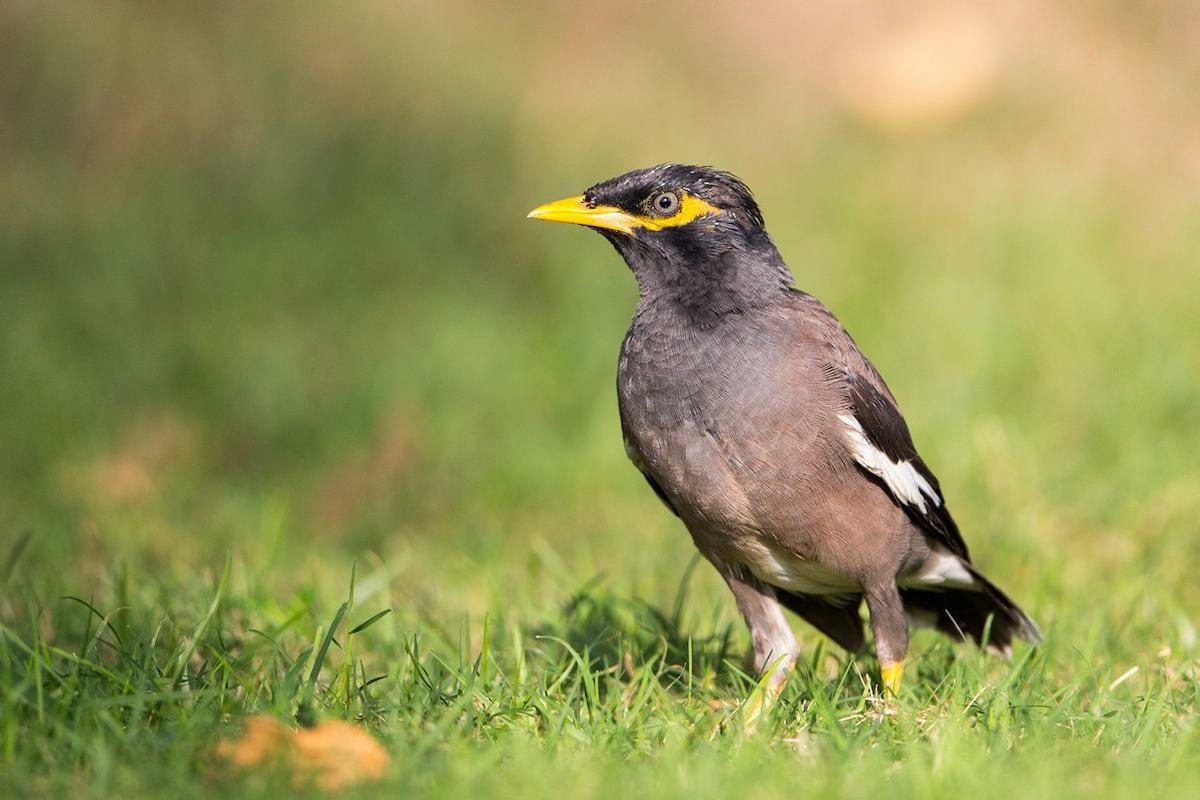myna: (544, 115, 1021, 737)
